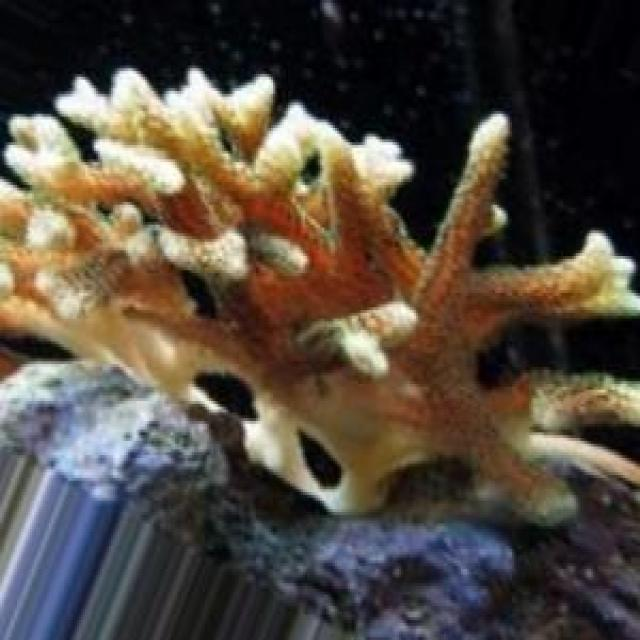Healthy: (1, 69, 639, 519)
